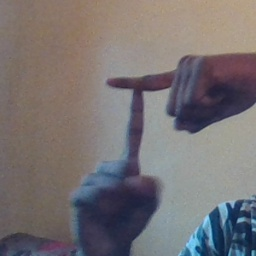T: (93, 53, 192, 181)
